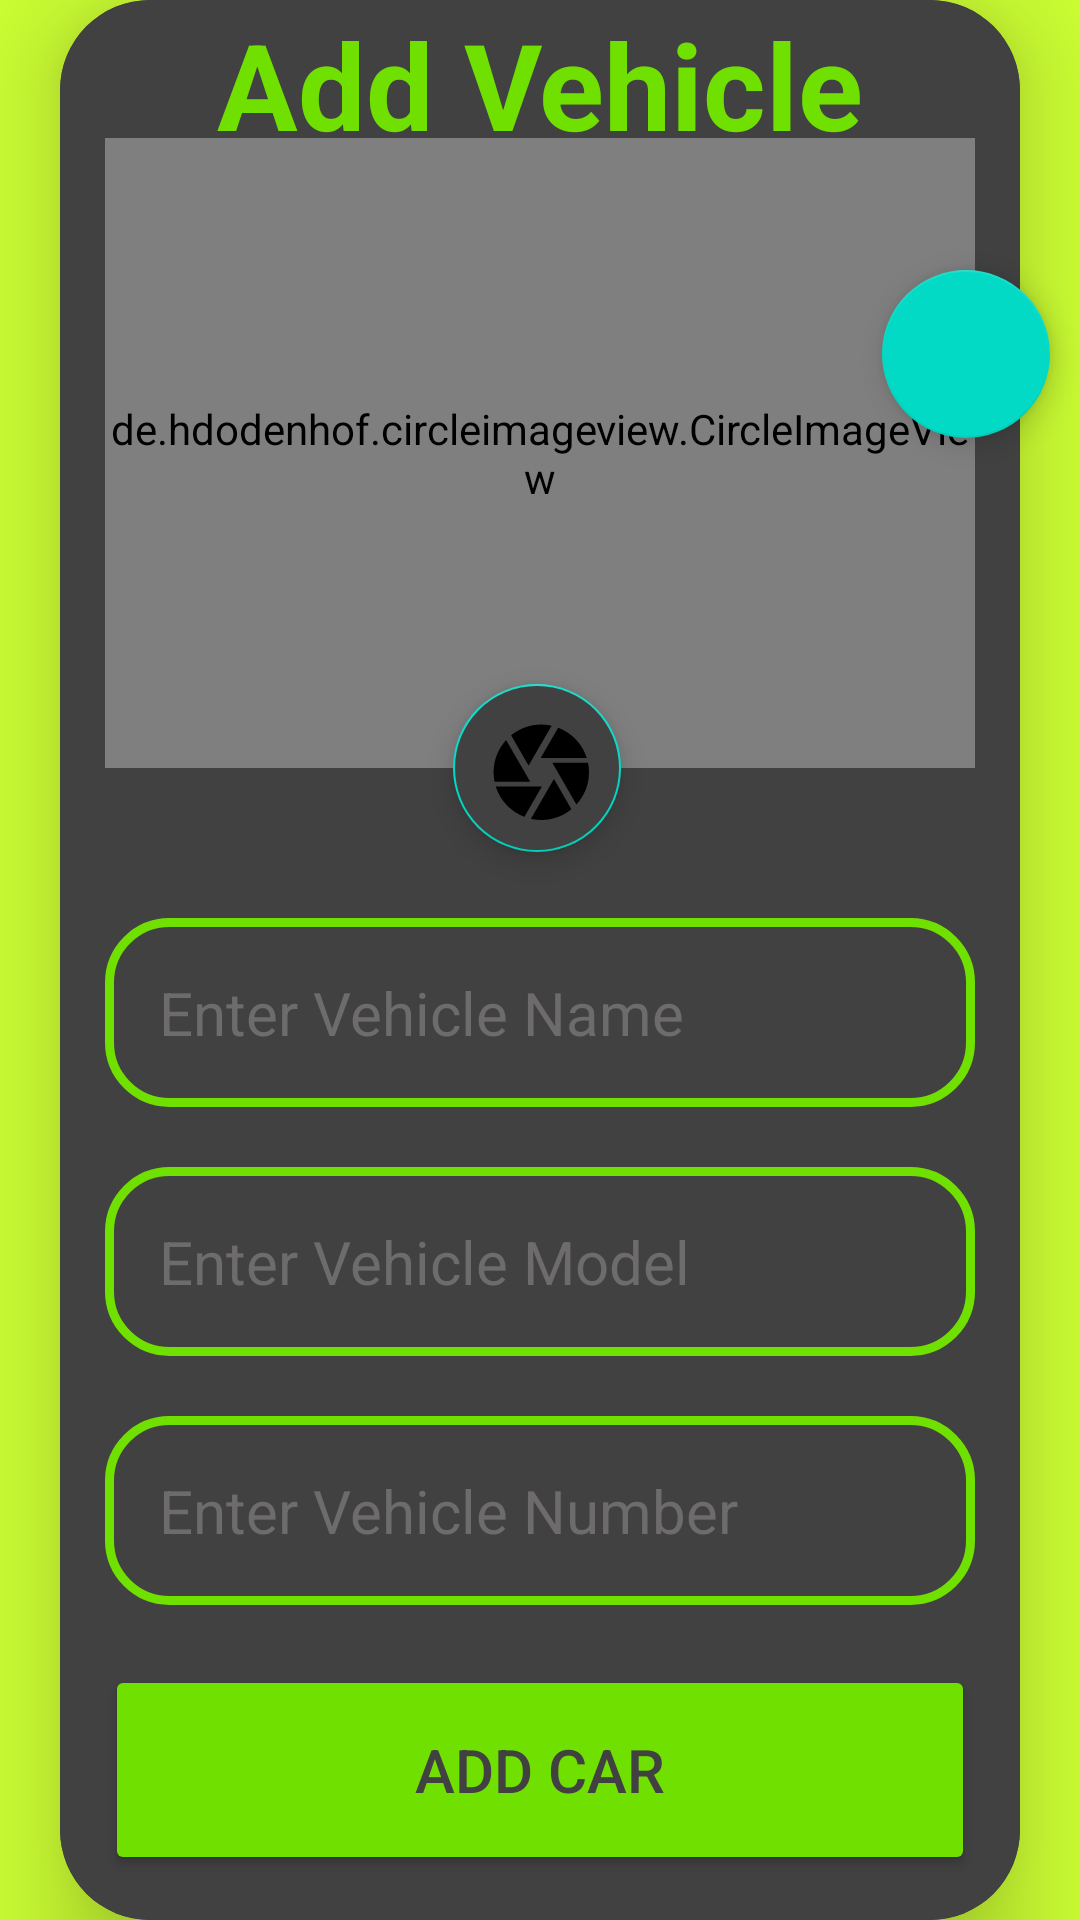

Icon click points for this 1080 × 1920 phone screenshot, format [x,y]:
Add Vehicle Image: [537,768]
